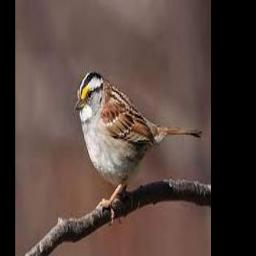Sparrow: (74, 71, 201, 225)
